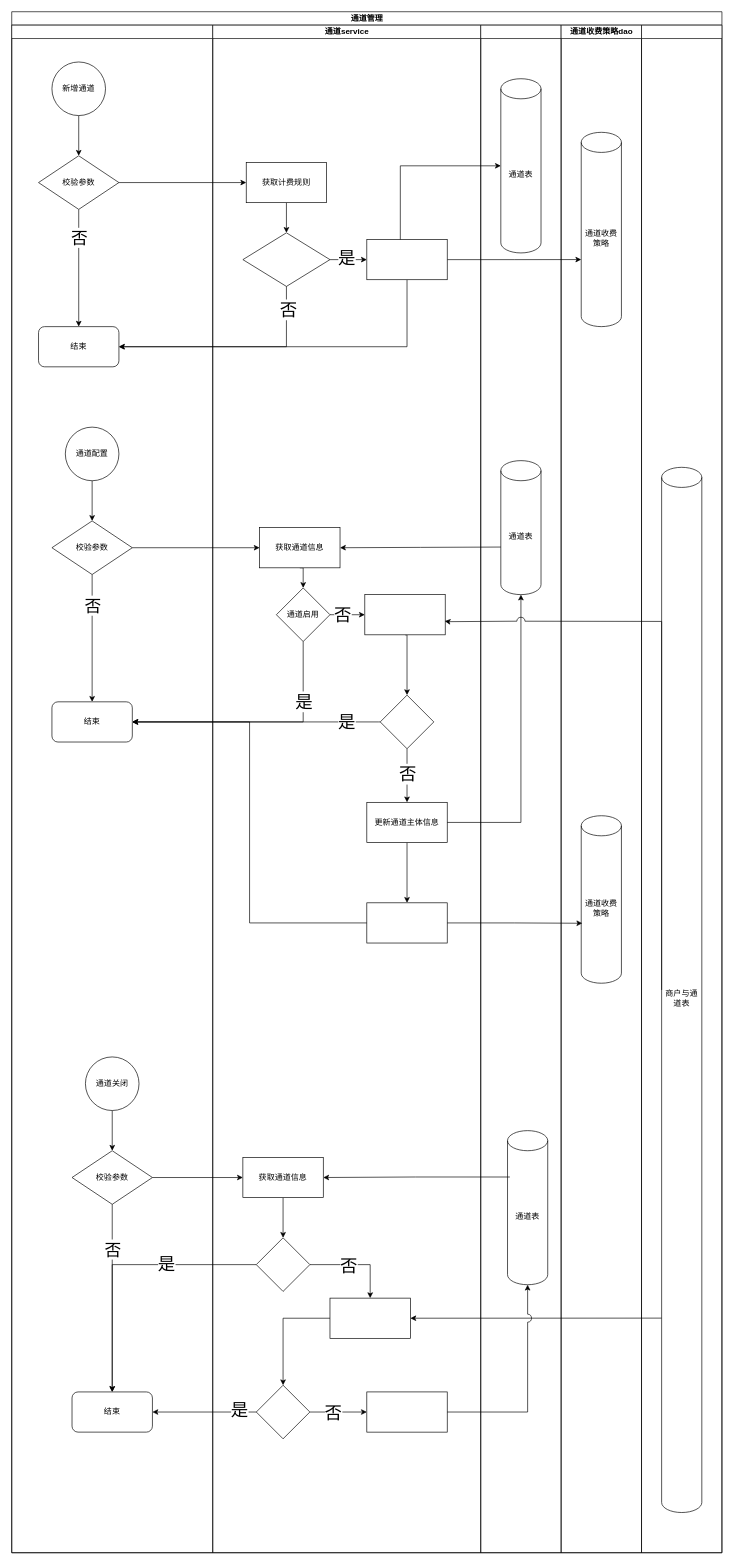
This 734x1564 diagram has some shape labels left out. Here are the shapes that lost their labels. From the top down, the box of each, then its label:
(242, 232, 330, 286): 校验收费策略
(366, 239, 447, 280): 入库
(364, 594, 445, 635): 通道编码获取商户与通道关联信息
(380, 694, 434, 749): 存在
(11, 24, 213, 1553): 通道controller
(480, 24, 561, 1553): 通道dao
(641, 24, 722, 1553): 商户与通道dao
(366, 902, 447, 943): 删除并新增收费策略
(256, 1237, 310, 1291): 启用
(329, 1297, 410, 1338): 获取通道绑定信息
(256, 1385, 310, 1439): 绑定
(366, 1391, 447, 1432): 关闭通道
